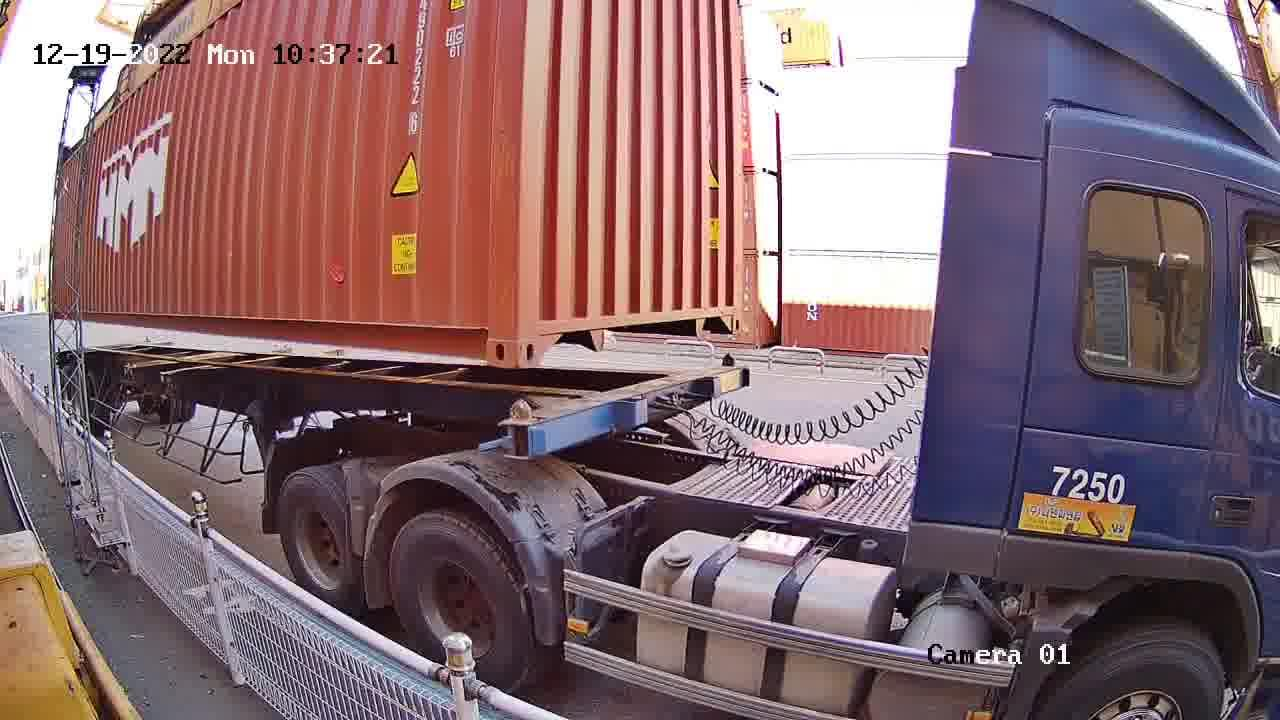Chassis: (506, 362, 746, 458)
Cone: (501, 399, 532, 458), (718, 353, 736, 375)
Hole_L: (517, 313, 562, 364)
Hole_R: (464, 310, 515, 366), (716, 301, 742, 336)
Tire: (391, 520, 524, 684), (278, 475, 351, 597)
